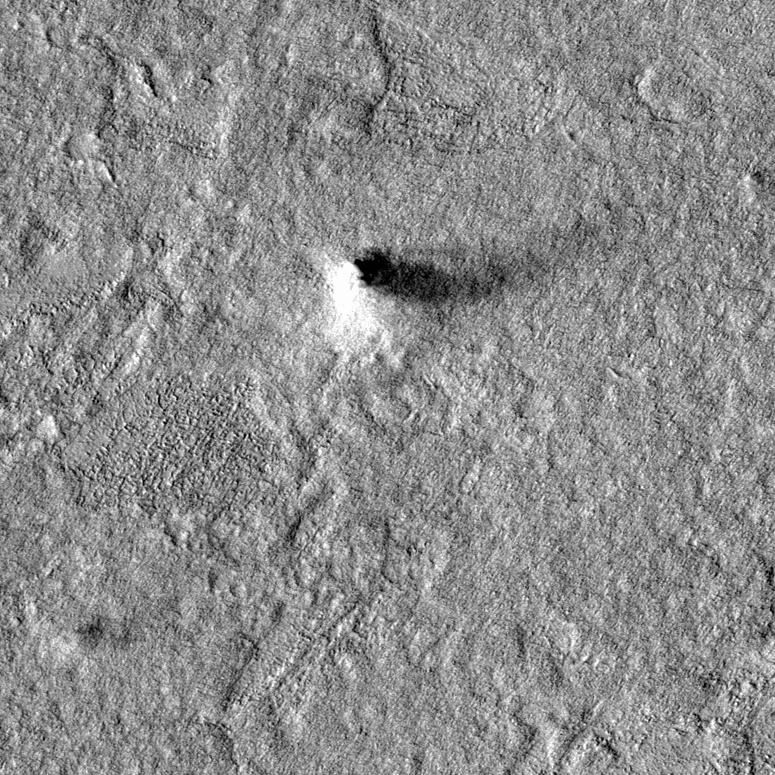dust_devil: (316, 243, 553, 364)
